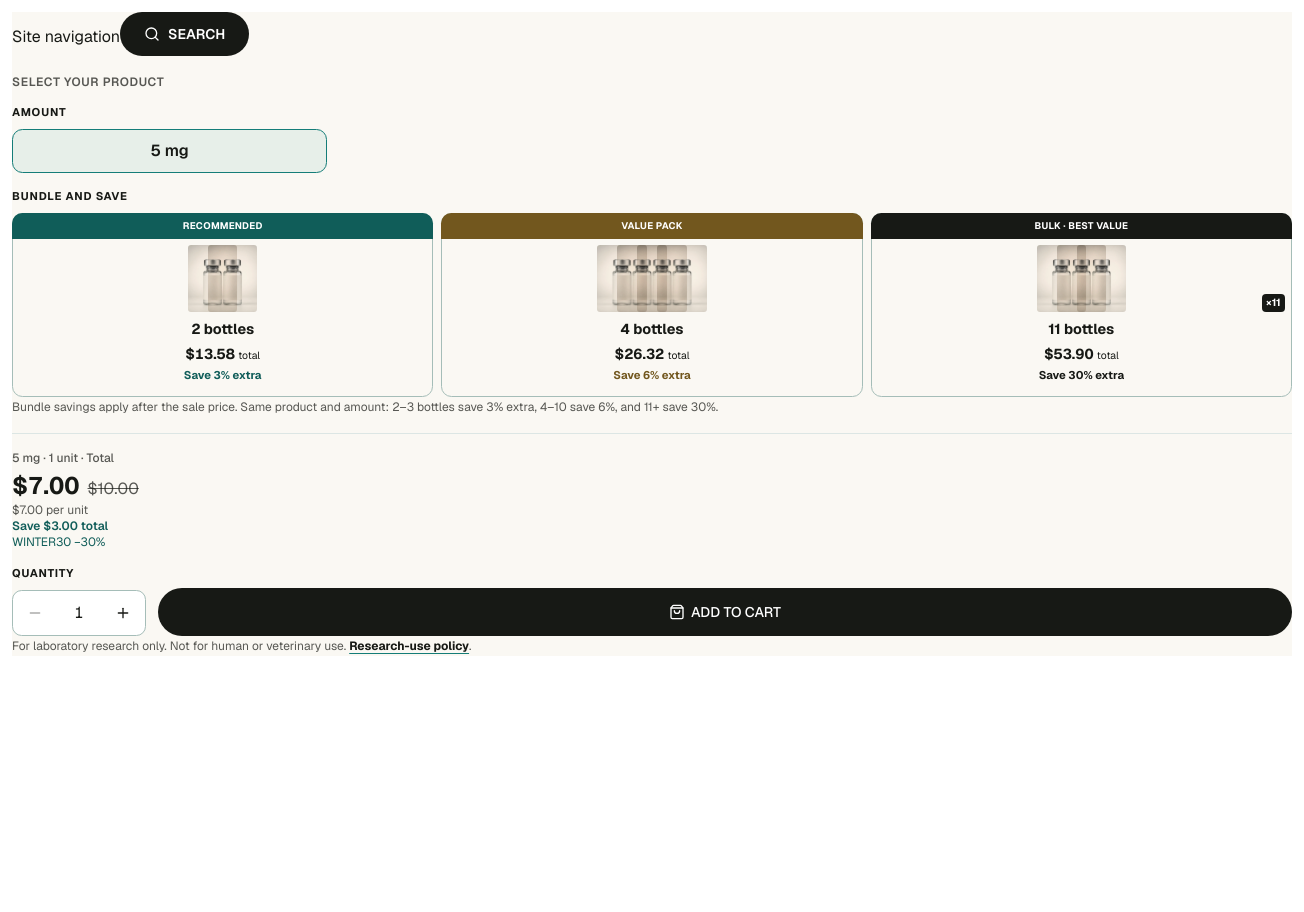
Test: Mobile purchase bar with the real purchase and cart authority › mirrors exact quantity 2 and its existing WINTER30 subtotal
Replace the text in the number field labelled "Quantity" with "2": (79, 613) [57,591,101,635]
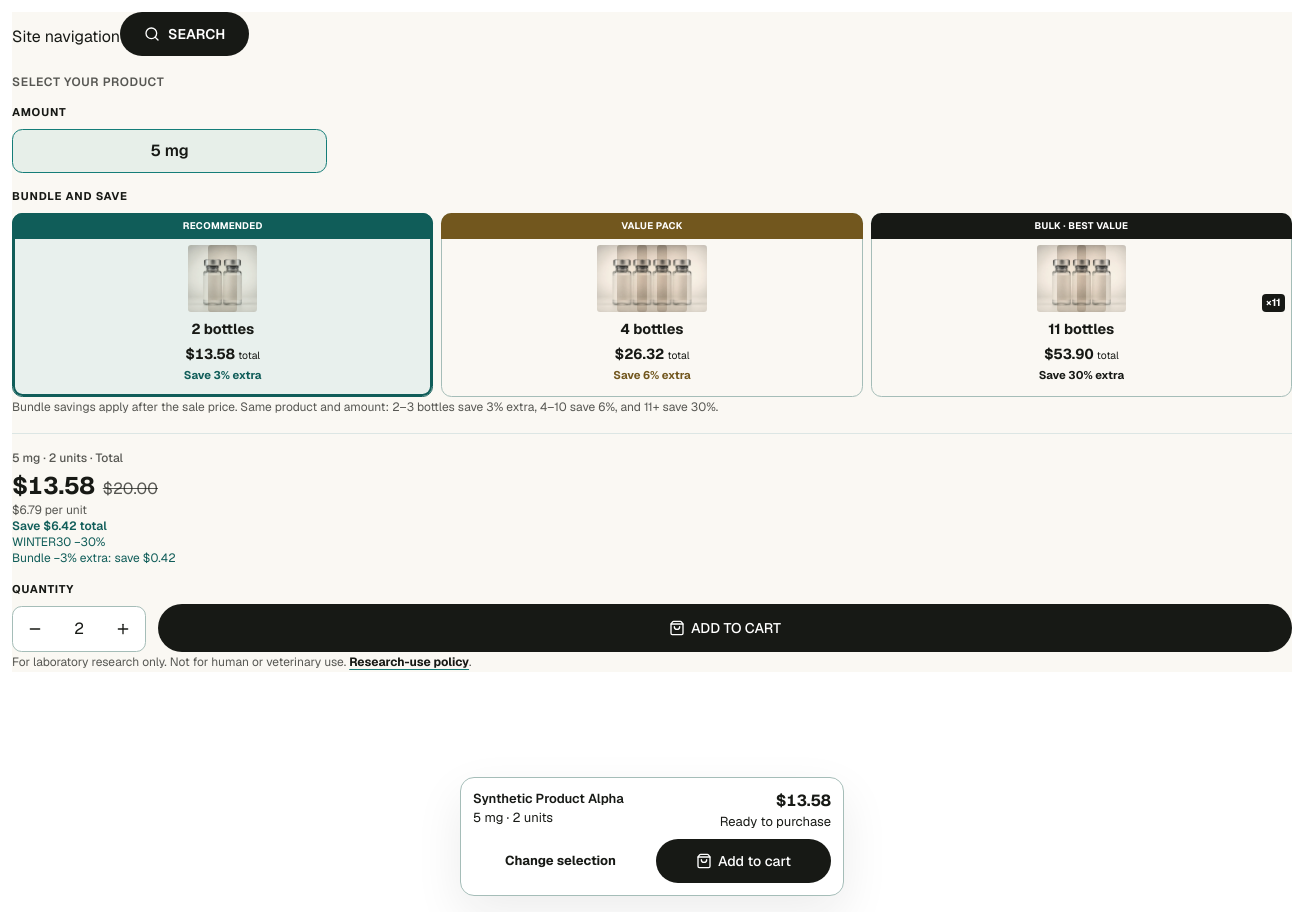
expect the element named "Mobile purchase controls" shows "Synthetic Product Alpha": met, box [473,790,624,807]
expect the element named "Mobile purchase controls" shows "5 mg": met, box [473,809,503,826]
expect the text "$13.58" next to "Synthetic Product Alpha" is shown: met, box [776,790,831,811]
